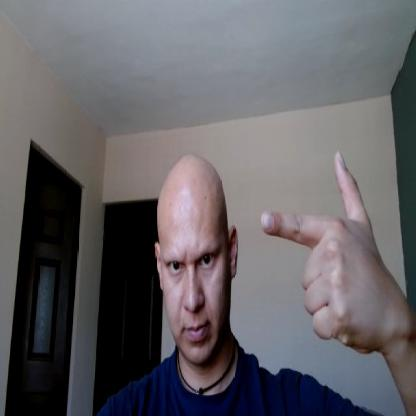G: (259, 147, 383, 353)
